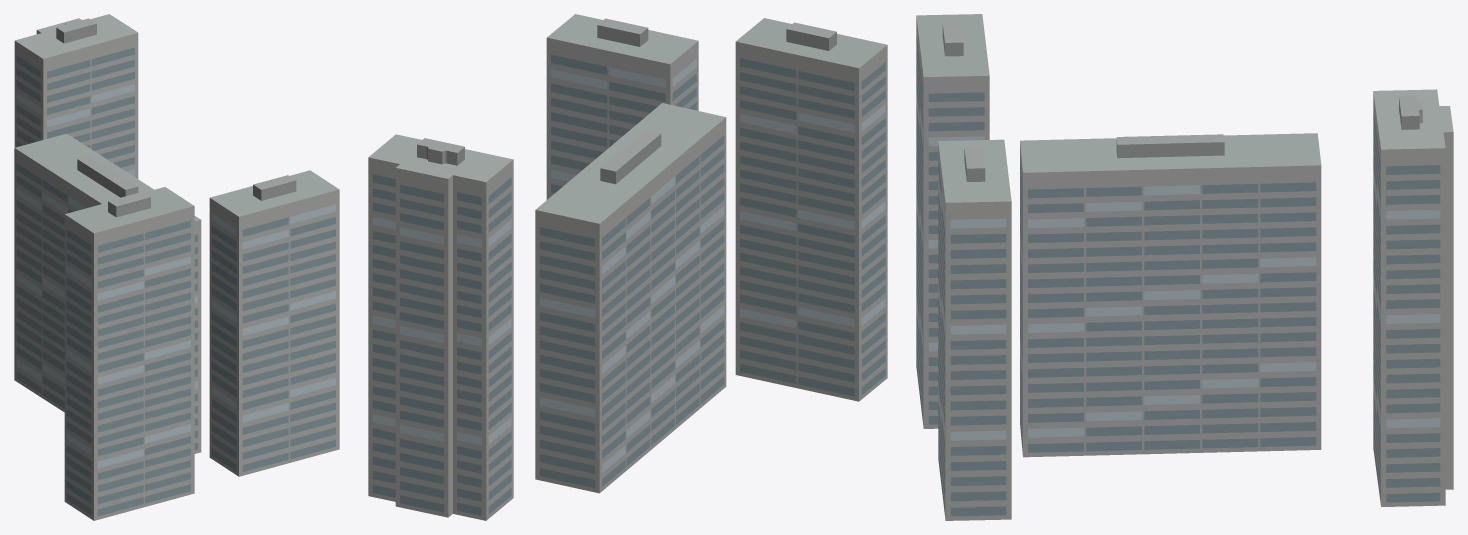
File: apt-a13204001.glb
3 views of the same model, side by side, from view 1: azimuth 30°, elevation 25°; view 2: azimuth 150°, elevation 25°; view 3: azimuth 270°, elevation 25° (orthographic). The views are drawn at different scales.
Parts seen in each view (by area): view 1: apt-a13204001; view 2: apt-a13204001; view 3: apt-a13204001.
Boxes of the visible parts, x1=… form: apt-a13204001: x1=14, y1=14, x2=339, y2=520; apt-a13204001: x1=368, y1=14, x2=887, y2=520; apt-a13204001: x1=916, y1=14, x2=1453, y2=520.
Bounding box in the file's own units: 59.19 × 66 × 86.62.
